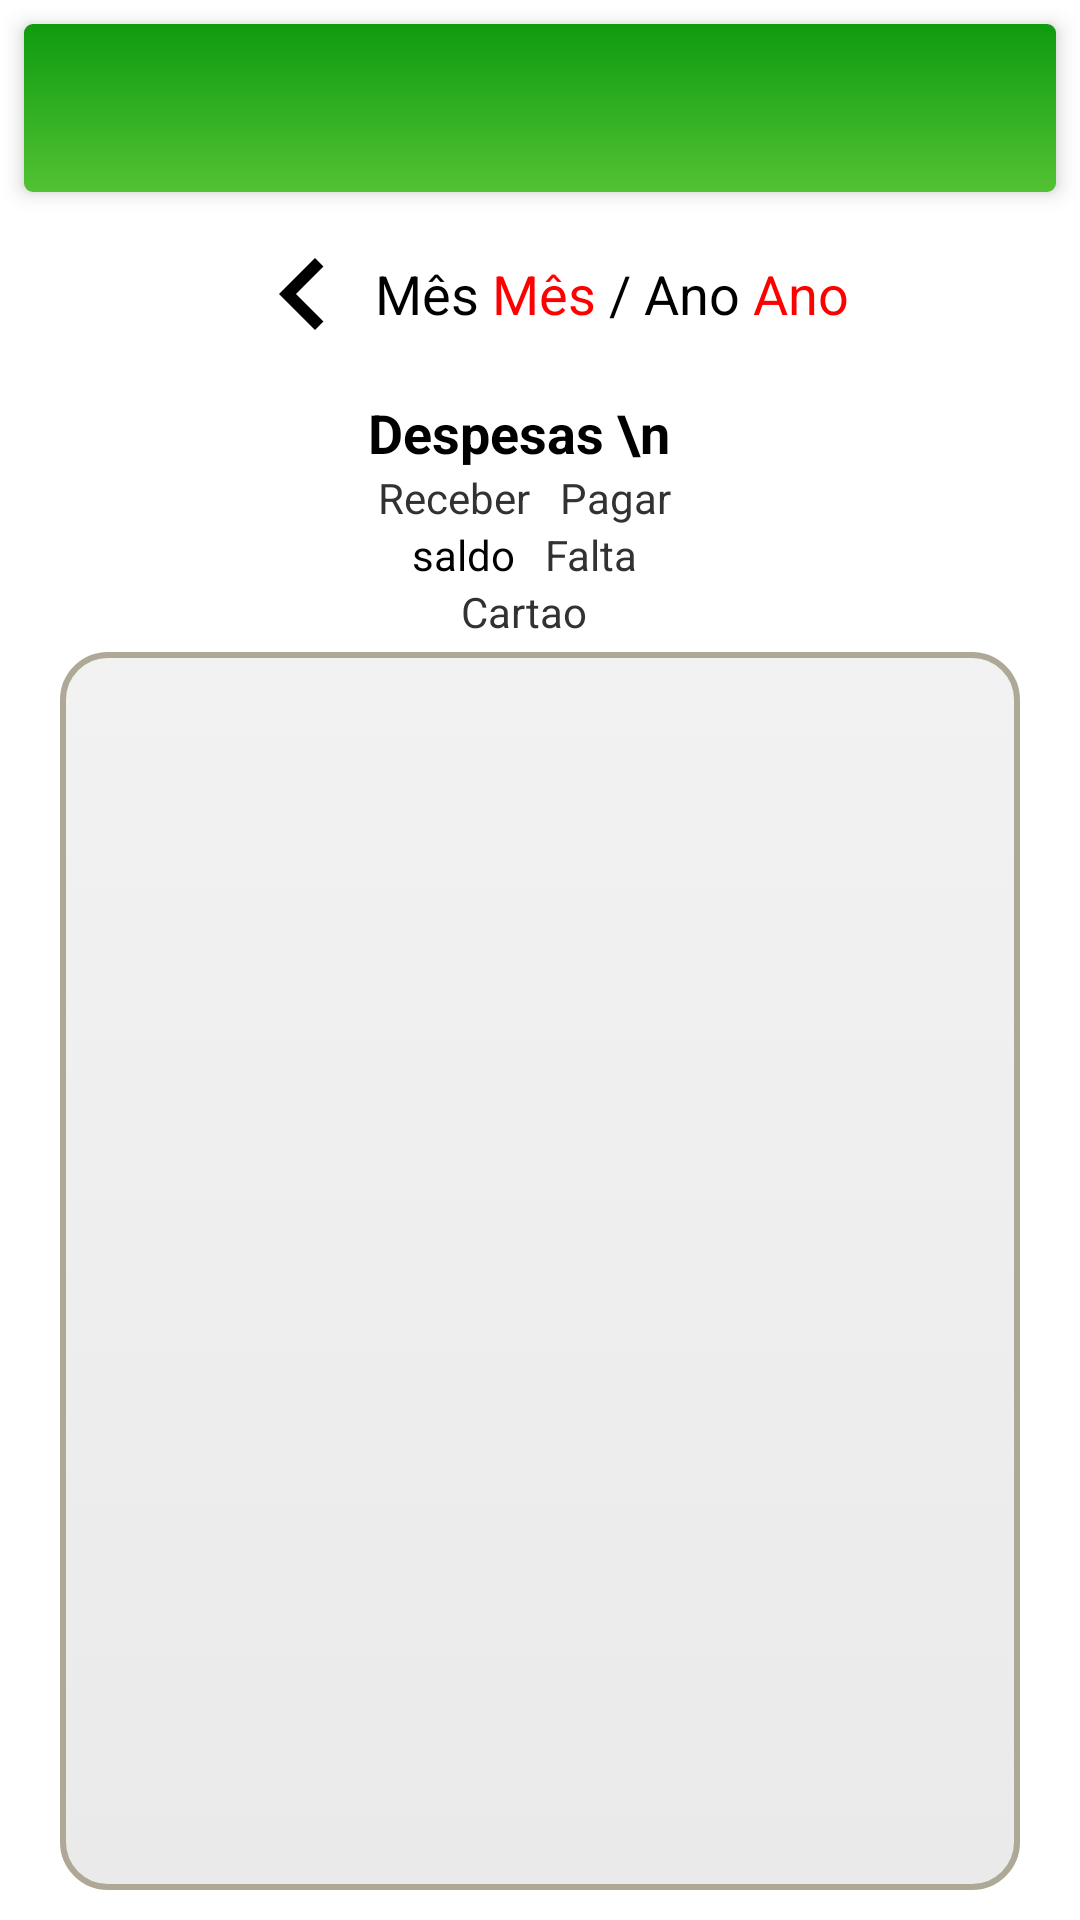

Screen size 1080*1920. Icon name, then its center in pixels as (x=x, y=y):
voltarblack: (x=301, y=294)
